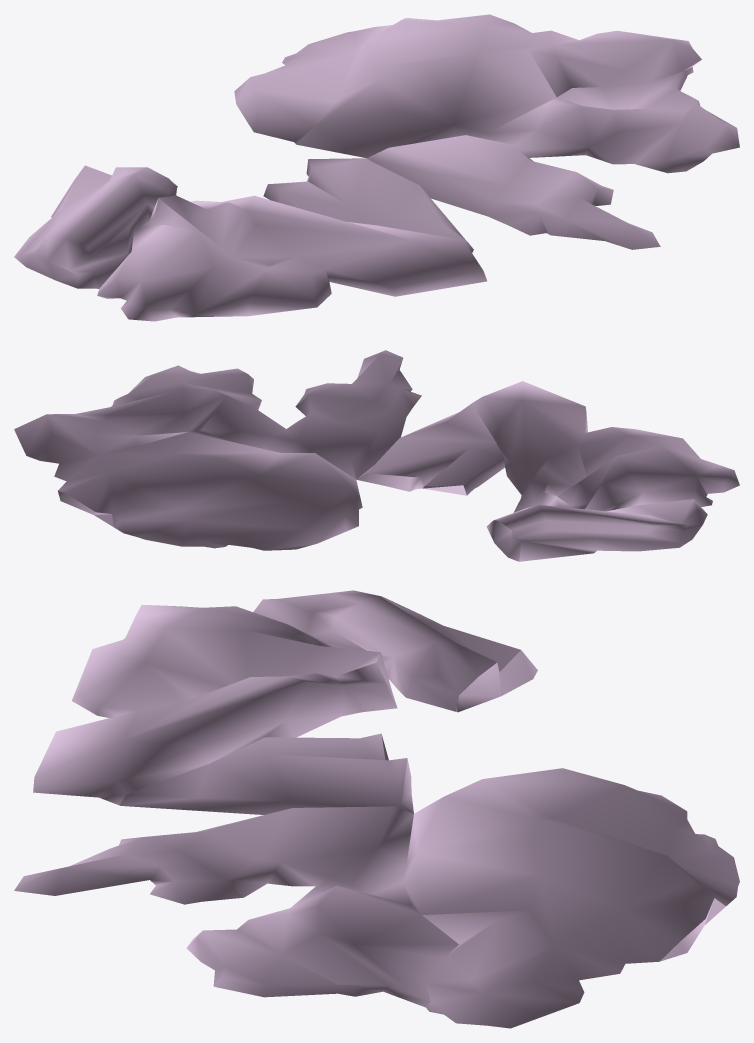
Rendered from 5_material40_vestiti2.fbx.
The picture shows the model from 3 angles, top to bottom: view 1: azimuth 30°, elevation 25°; view 2: azimuth 150°, elevation 25°; view 3: azimuth 270°, elevation 25°; orthographic projection. The views are drawn at different scales.
Parts seen in each view (by area): view 1: 5_material41_1_0_0.002_vestiti2; view 2: 5_material41_1_0_0.002_vestiti2; view 3: 5_material41_1_0_0.002_vestiti2.
Boxes of the visible parts, bbox=[...] form: 5_material41_1_0_0.002_vestiti2: bbox=[14, 14, 739, 321]; 5_material41_1_0_0.002_vestiti2: bbox=[14, 350, 739, 561]; 5_material41_1_0_0.002_vestiti2: bbox=[14, 590, 739, 1028].
Size of the model in its own units: 656 by 31.05 by 465.
